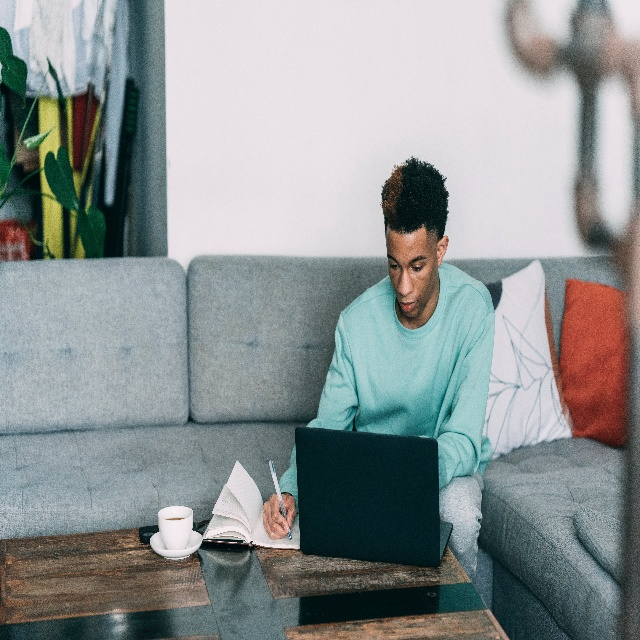Sin_guantes: (260, 489, 297, 539)
